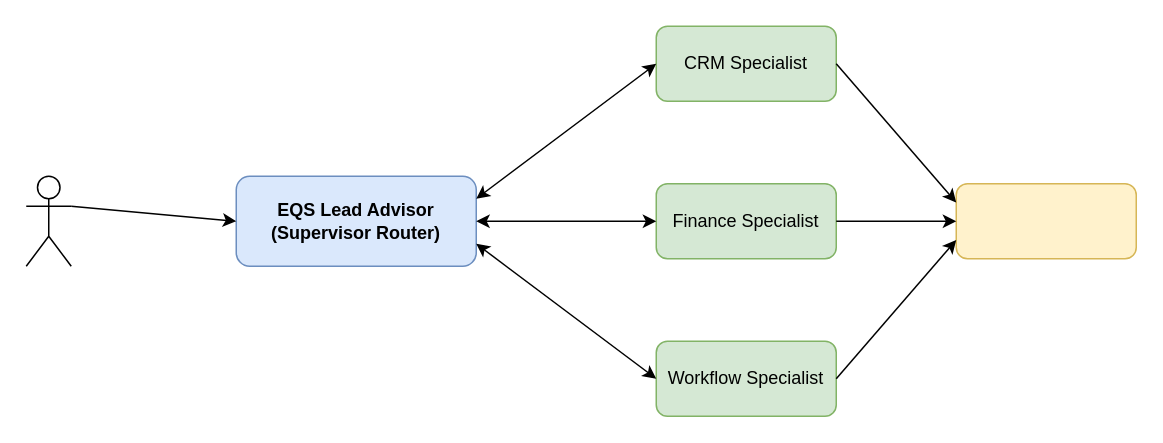
This 1163x443 diagram has some shape labels left out. Each missing label, with the box of its shape:
eqs-mcp-gateway (Lambda): (955, 182, 1136, 259)
User: (25, 175, 71, 266)
